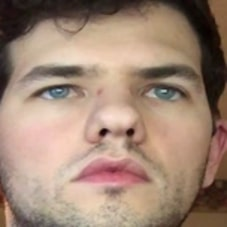drowsy: (21, 49, 204, 202)
